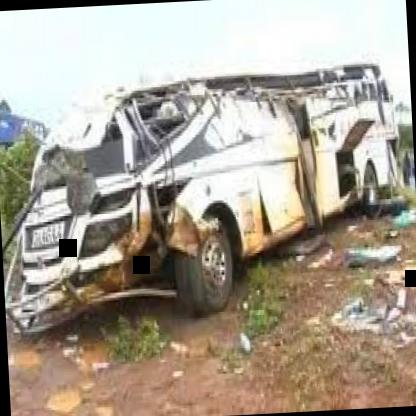accident: (0, 64, 416, 323)
